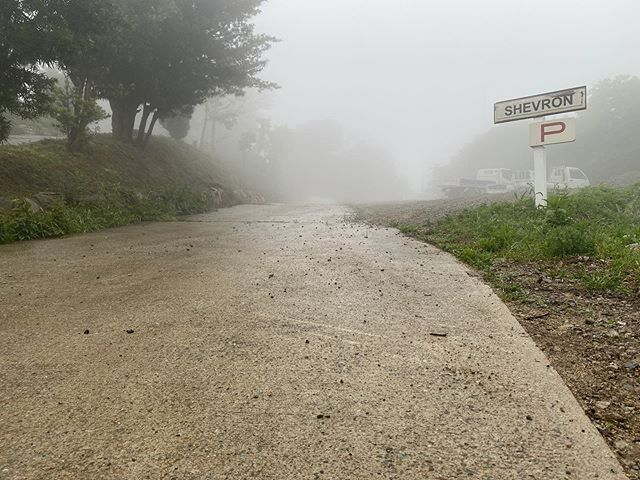sign: (490, 80, 595, 150)
sky: (294, 1, 636, 120)
street: (3, 203, 614, 480)
tree: (57, 1, 270, 144)
